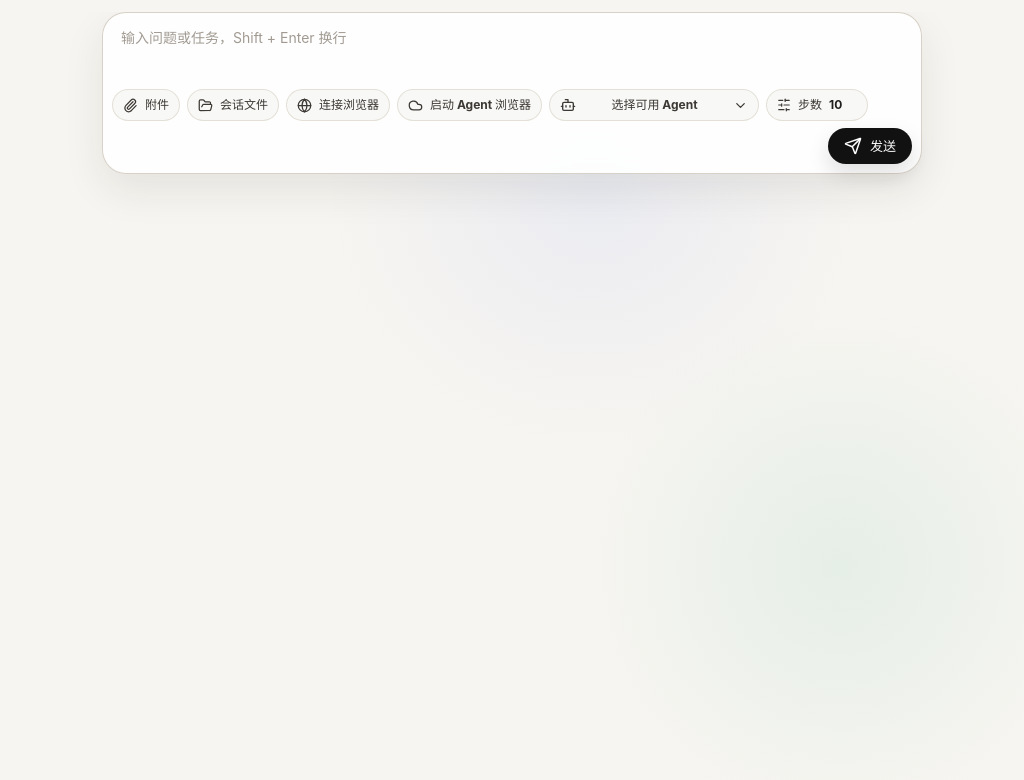
Test: TaskComposer › 阻止未选择 Agent 或空消息的发送
Click the button with aria-label "发送消息": (870, 146) [828, 128, 912, 164]
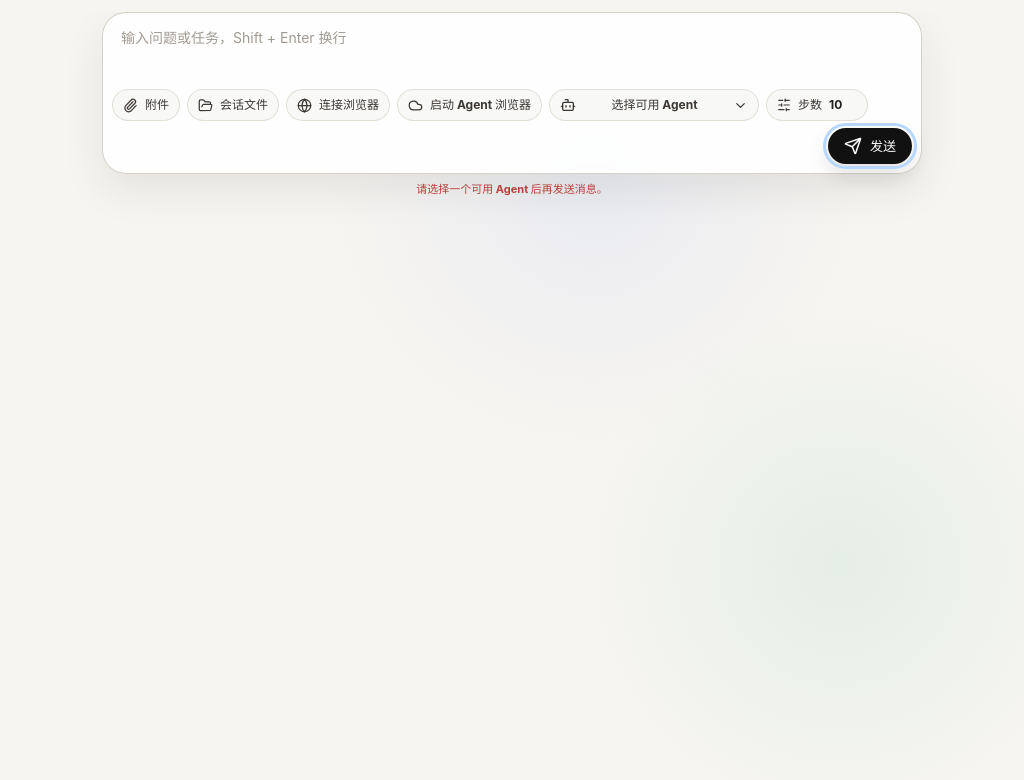
Result: the message shows "请选择一个可用 Agent" at [416, 182, 608, 196]
